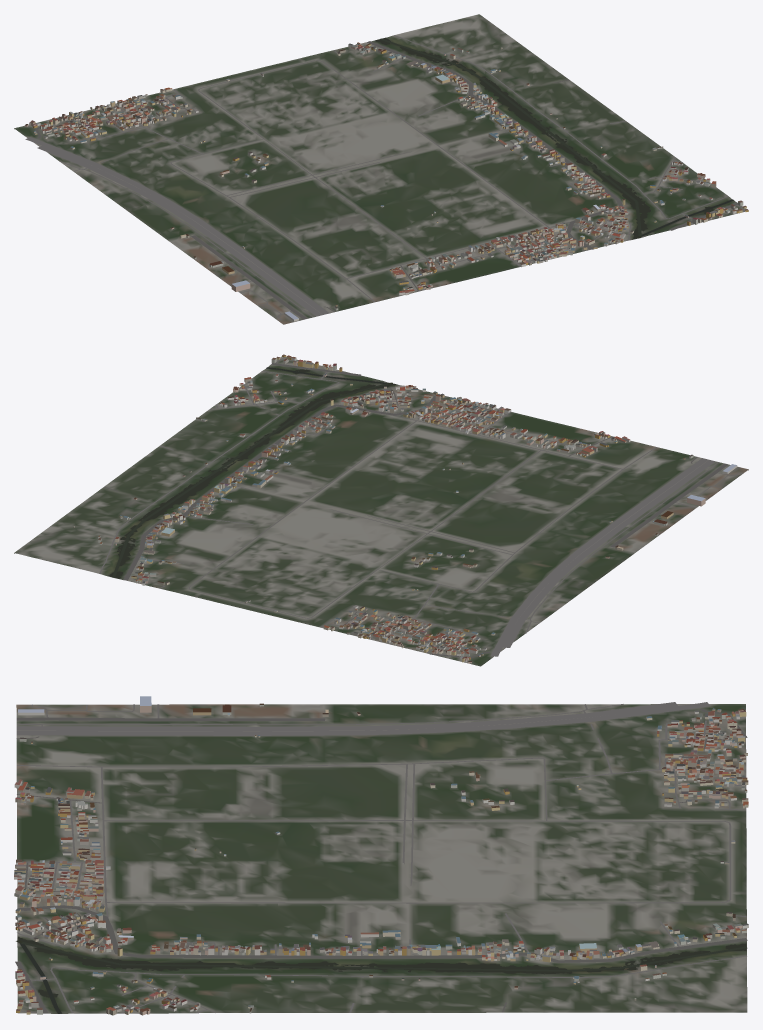
3 views of the same model, one above another, from view 1: azimuth 30°, elevation 25°; view 2: azimuth 150°, elevation 25°; view 3: azimuth 270°, elevation 25° (orthographic). The views are drawn at different scales.
Parts seen in each view (by area): view 1: ground, buildings, roads, water; view 2: ground, buildings, roads, water; view 3: ground, buildings, roads, water.
Part boxes in pixels (x1,y1,x2,y2): ground: (14, 14, 748, 324); buildings: (24, 42, 748, 321); roads: (25, 35, 745, 320); water: (375, 37, 733, 239); ground: (14, 356, 748, 666); buildings: (73, 354, 737, 663); roads: (99, 357, 743, 658); water: (108, 367, 397, 578); ground: (16, 704, 747, 1013); buildings: (14, 696, 748, 1015); roads: (15, 702, 747, 1013); water: (16, 936, 747, 1013).
Size of the model in its own units: 1423 by 20.21 by 1412.
